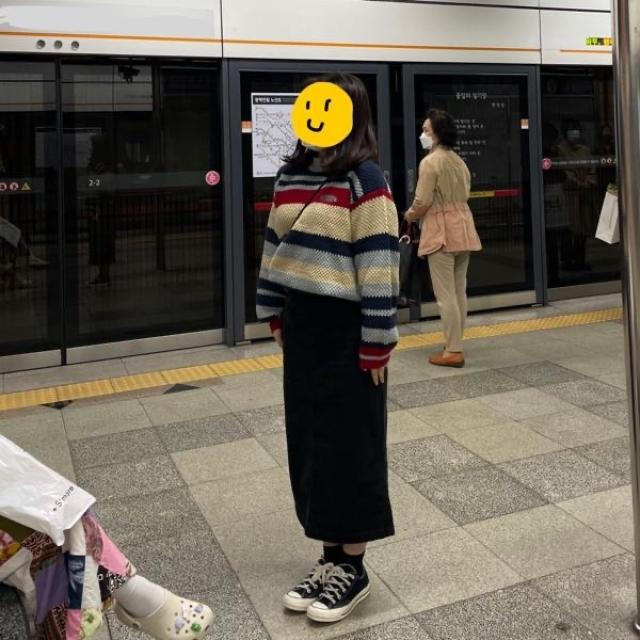skirt: (285, 291, 396, 546)
sweater: (254, 157, 399, 367)
